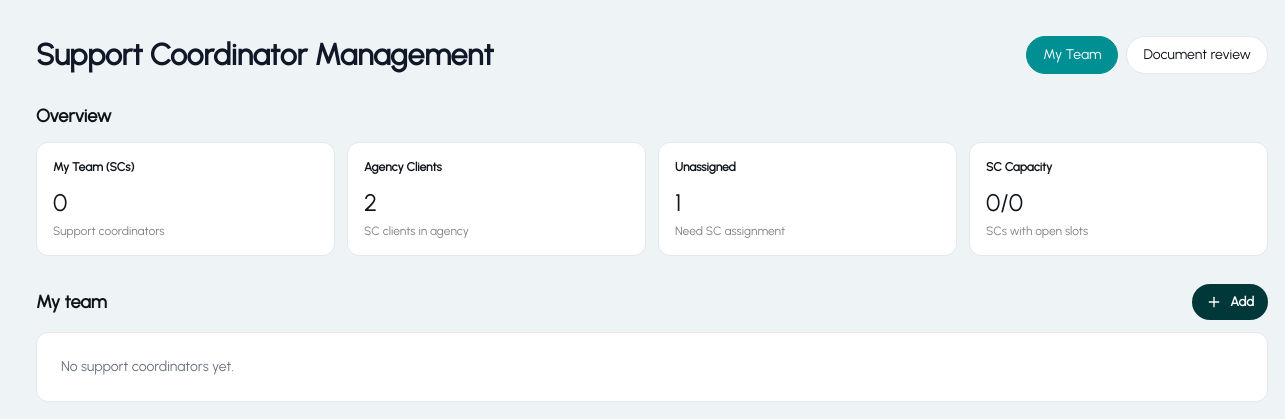
Test case: SupportCoordinatorManagement › sends Add to the manual staff onboarding flow
Click the button with aria-label "Add support coordinator": click(1230, 302) [1192,284,1268,320]
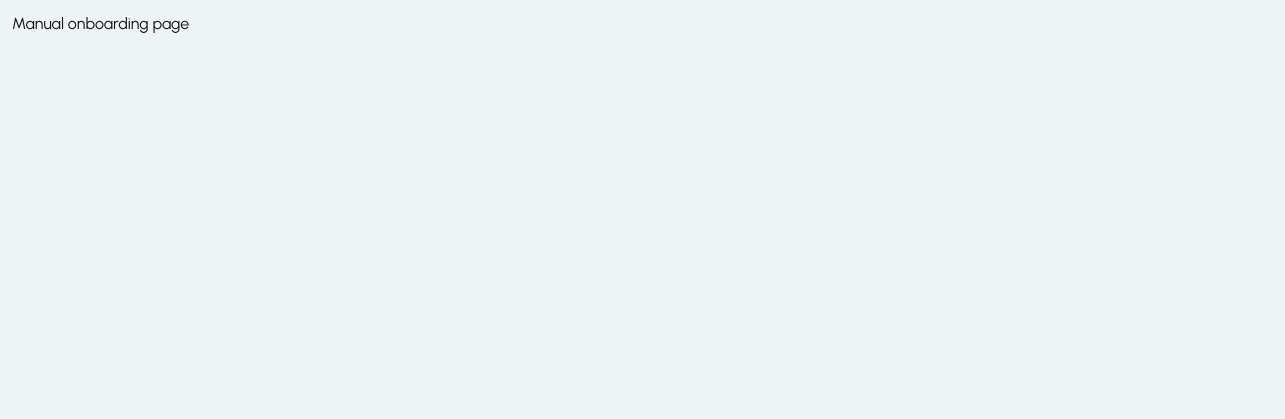
Expected: the text "Manual onboarding page" is shown, [12,14,189,33]
